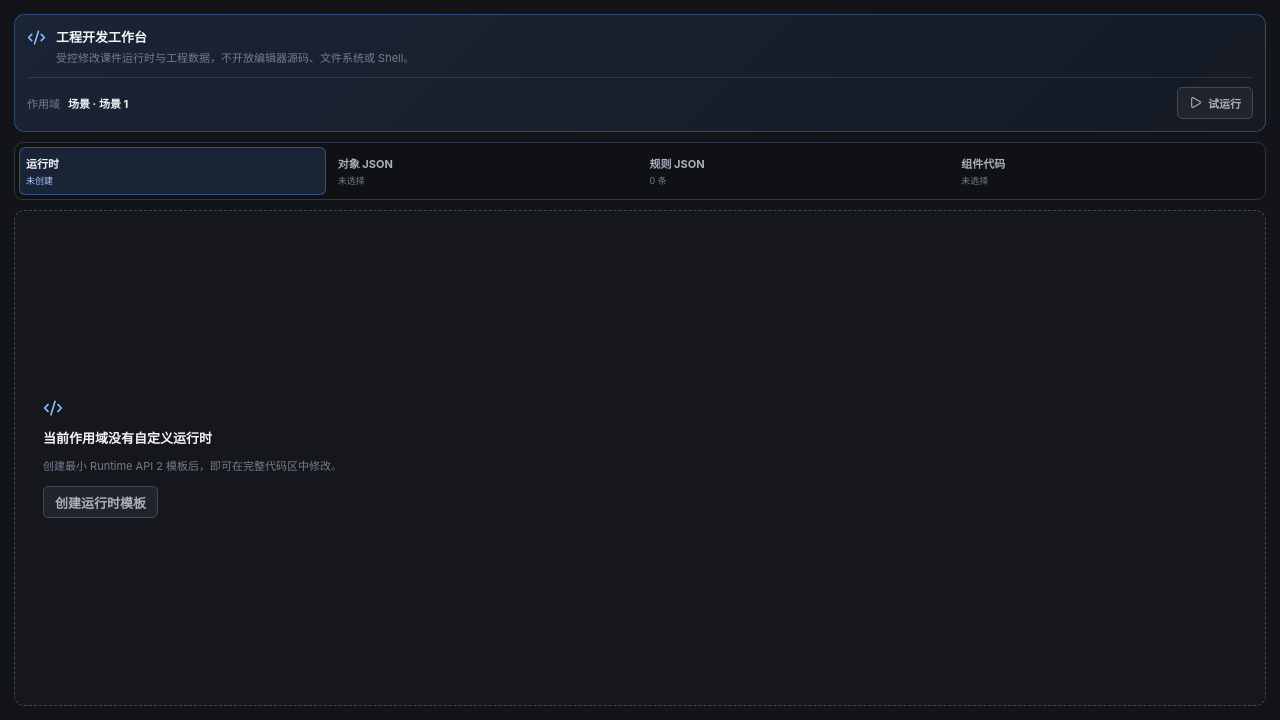
it: 专业开发模式 › 开发工作区一次只呈现一类任务，并给未就绪任务明确空状态
Check: the text "当前作用域没有自定义运行时" is shown, box [43, 428, 212, 446]
Click the tab "对象 JSON 未选择": [365, 164] box [331, 146, 638, 194]
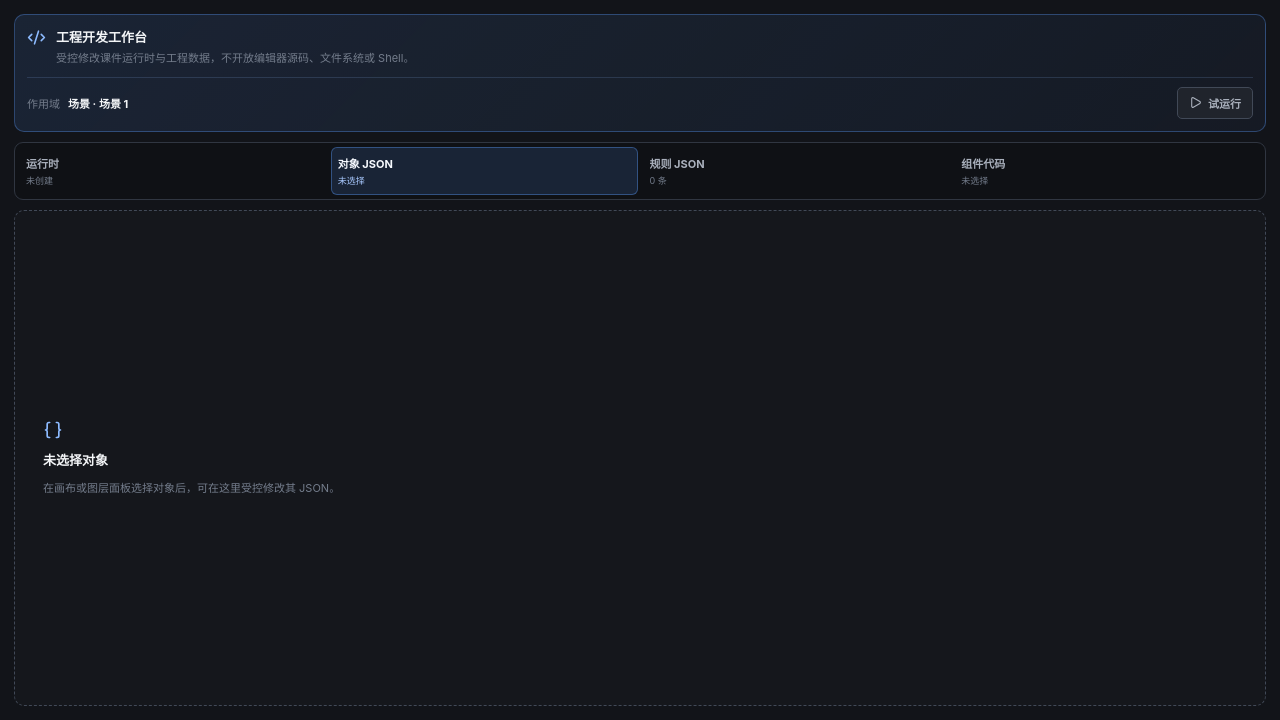
Check: the text "未选择对象" is shown, box [43, 450, 108, 468]
Check: the text "当前作用域没有自定义运行时" is gone
Click the tab "规则 JSON 0 条": [677, 164] box [642, 146, 949, 194]
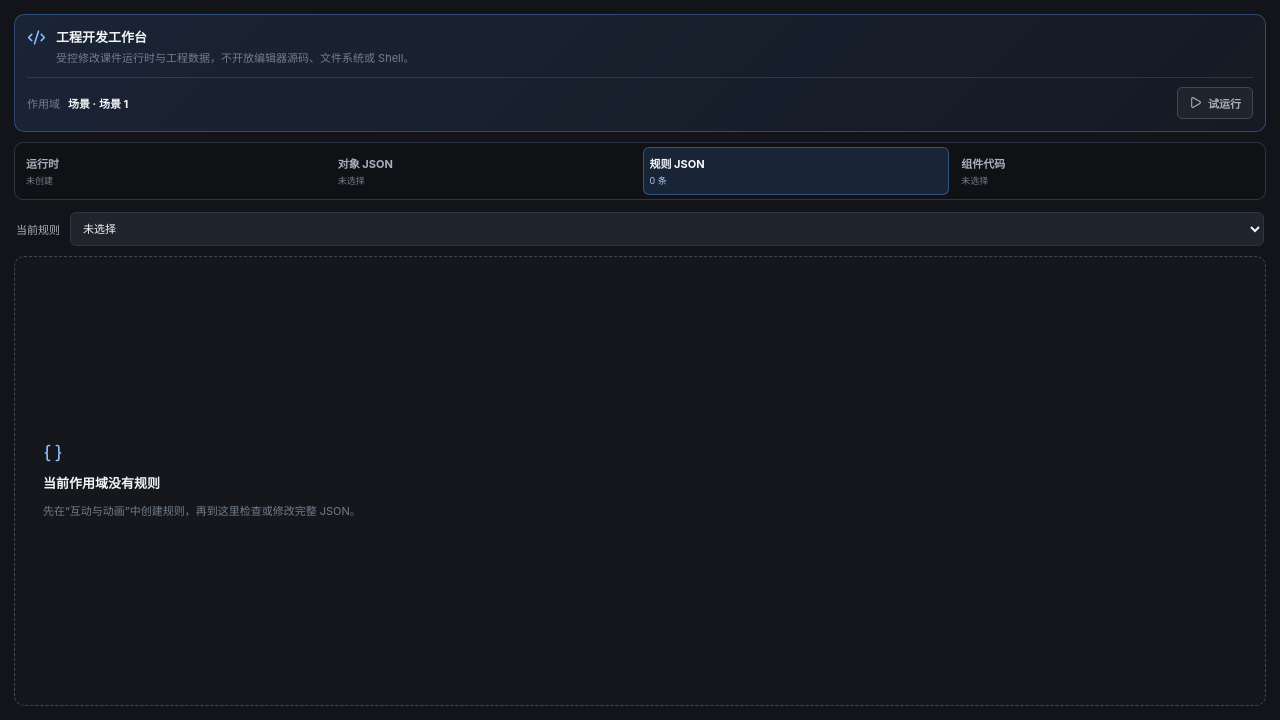
Check: the text "当前作用域没有规则" is shown, box [43, 472, 160, 492]
Check: the dropdown labelled "当前规则" is shown, box [70, 212, 1264, 246]
Click the tab "组件代码 未选择": [983, 164] box [954, 146, 1261, 194]
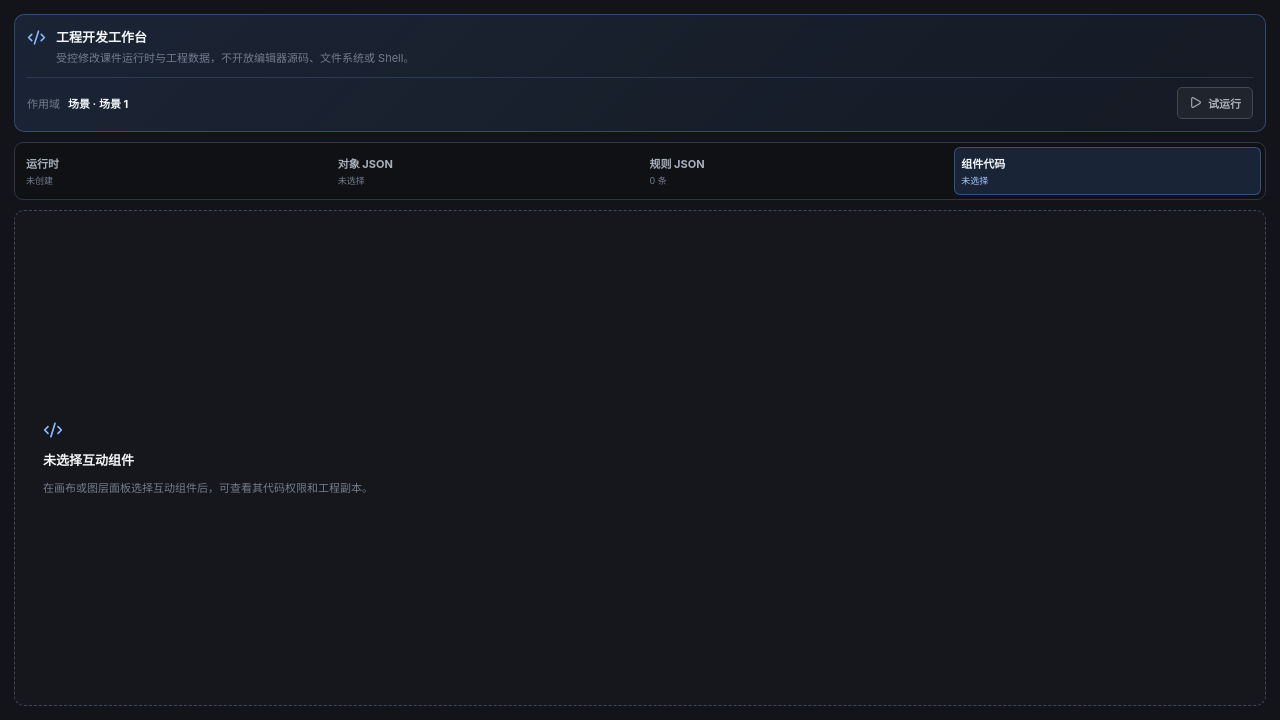
Check: the text "未选择互动组件" is shown, box [43, 450, 134, 468]
